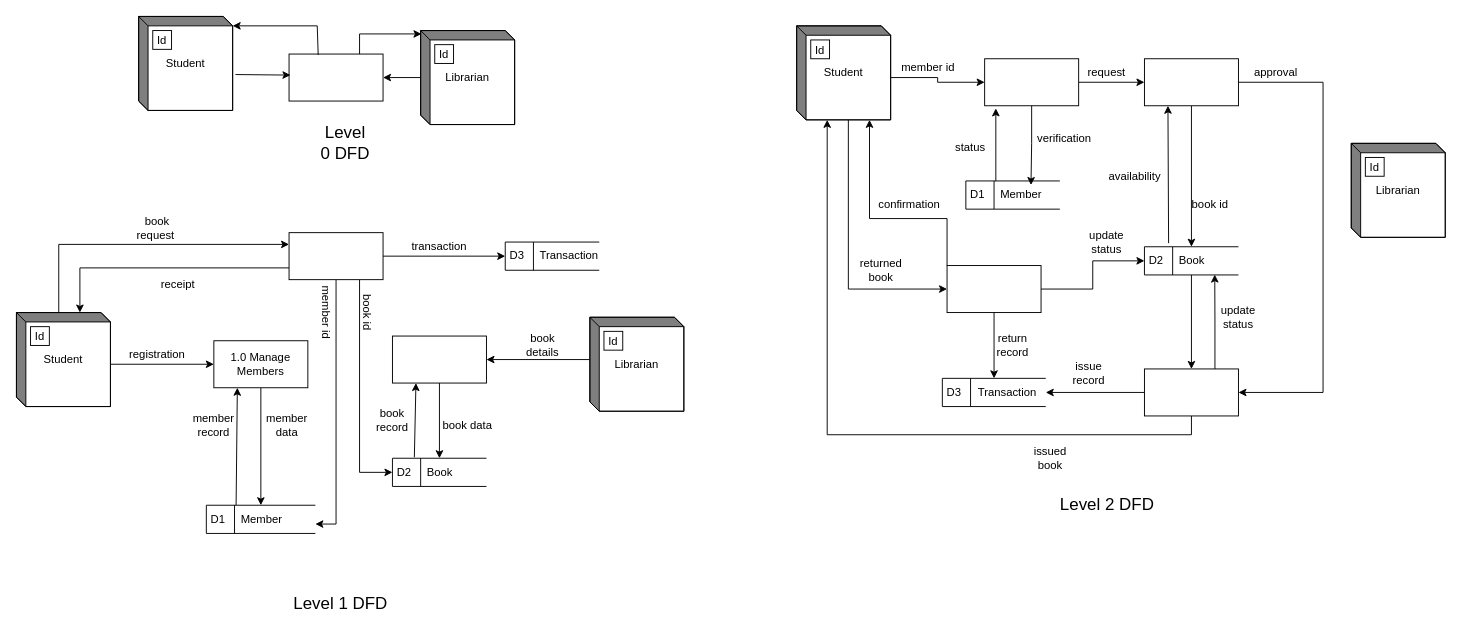
Image size: 1462x635. Some labels were removed from this diagram. The box of each missing label's shape, as (x1, y1, x2, y2) in pixels:
2.0 Manage Books: (392, 335, 486, 383)
3.0 Issue/Return Books: (288, 232, 383, 280)
3.1 Verify member: (984, 58, 1079, 106)
3.2 Check availability: (1144, 58, 1238, 106)
3.3 Issue book: (1144, 368, 1238, 416)
3.4 Return book: (946, 265, 1041, 313)
Library Management system: (288, 53, 383, 101)
